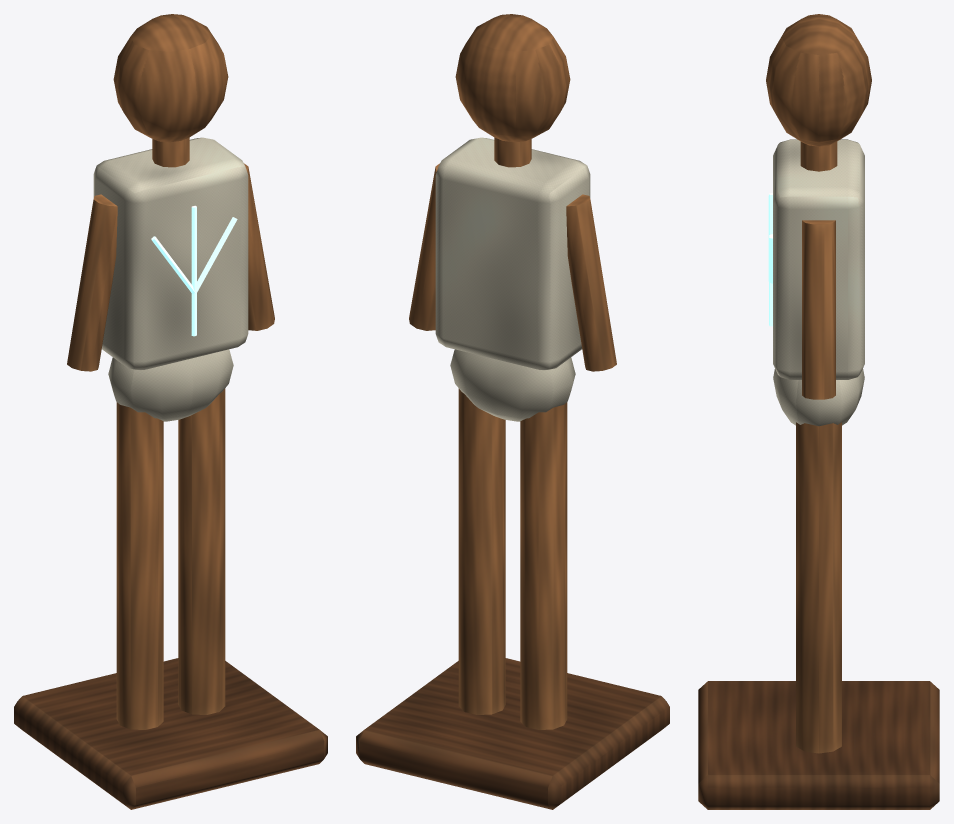
File: Furn_Med_AnatomyModel.fbx
3 views of the same model, side by side, from view 1: azimuth 30°, elevation 25°; view 2: azimuth 150°, elevation 25°; view 3: azimuth 270°, elevation 25° (orthographic). The views are drawn at different scales.
Parts seen in each view (by area): view 1: Furn_Med_AnatomyModel; view 2: Furn_Med_AnatomyModel; view 3: Furn_Med_AnatomyModel.
Boxes of the visible parts, x1,y1,x2,y2 form: Furn_Med_AnatomyModel: [14, 14, 327, 809]; Furn_Med_AnatomyModel: [356, 14, 669, 809]; Furn_Med_AnatomyModel: [698, 14, 939, 809].
Size of the model in its own units: 0.5 by 1.7 by 0.5.
Materials: 4 (3 with a texture image).
